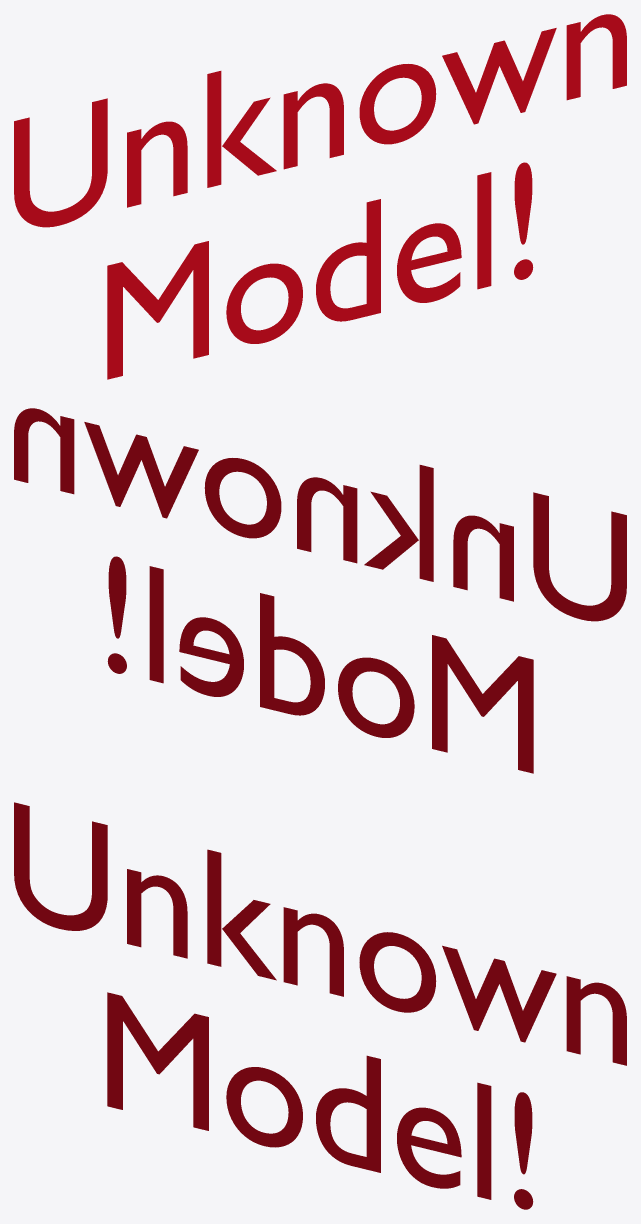
File: unknown.glb
3 renders of one model, top to bottom at view 1: azimuth 30°, elevation 25°; view 2: azimuth 150°, elevation 25°; view 3: azimuth 330°, elevation 25°, orthographic.
Visible parts, largest first — view 1: ???; view 2: ???; view 3: ???.
Part boxes in pixels (x1,y1,x2,y2): ???: (14,14,626,379); ???: (14,408,626,773); ???: (14,802,626,1209).
Bounding box in the file's own units: 3.84 × 1.69 × 3.75e-16.
